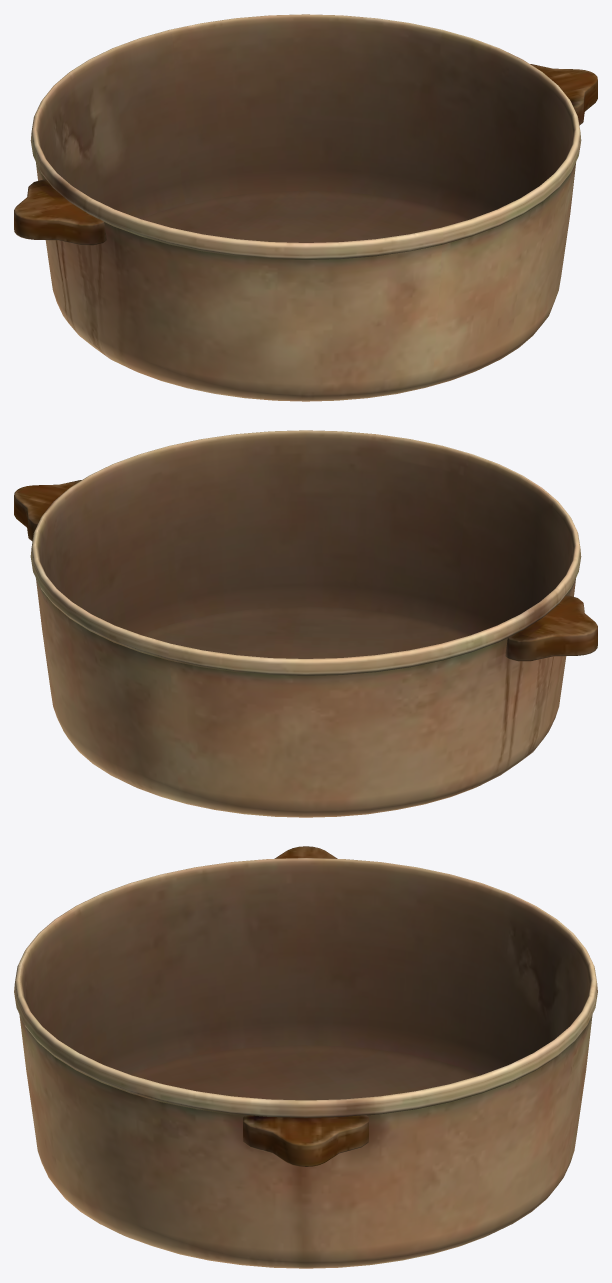
Rendered from brass_pot_02.glb.
3 renders of one model, top to bottom at view 1: azimuth 30°, elevation 25°; view 2: azimuth 150°, elevation 25°; view 3: azimuth 270°, elevation 25°, orthographic. The views are drawn at different scales.
Visible parts, largest first — view 1: brass_pot_02; view 2: brass_pot_02; view 3: brass_pot_02.
Boxes of the visible parts, <box> form: brass_pot_02: <box>14,14,597,401</box>; brass_pot_02: <box>14,430,597,817</box>; brass_pot_02: <box>14,846,597,1268</box>.
Size of the model in its own units: 0.3666 by 0.1085 by 0.3023.
Materials: 1 (1 with a texture image).
